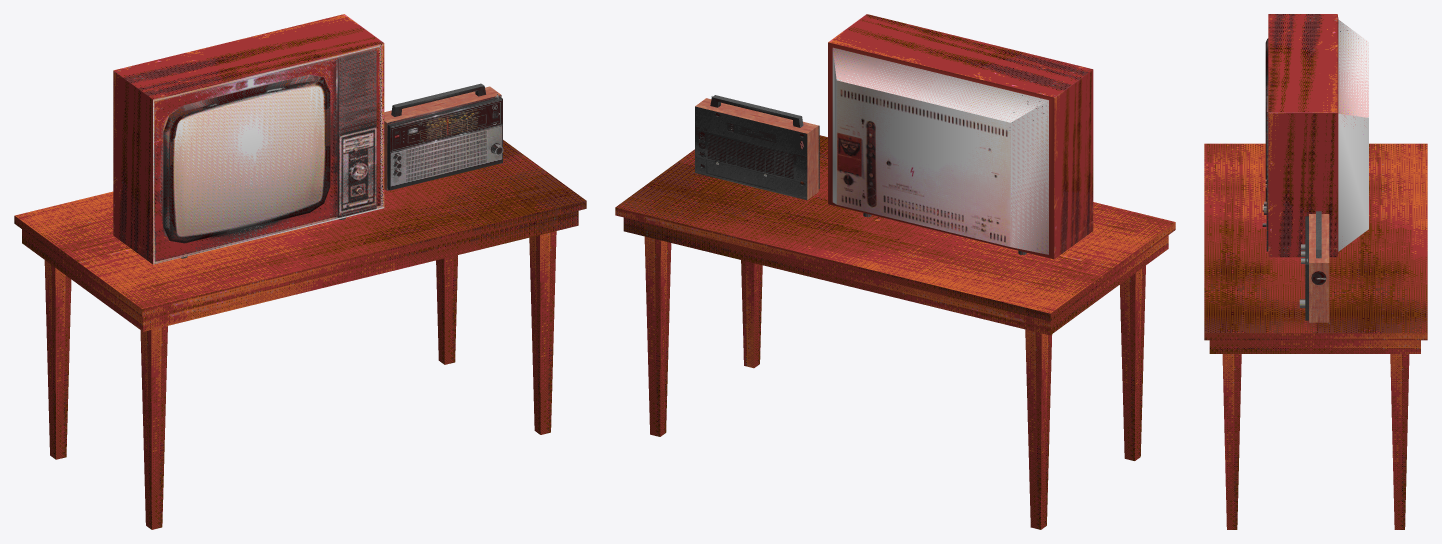
Rendered from tv&radio&table.fbx.
The picture shows the model from 3 angles, left to right: view 1: azimuth 30°, elevation 25°; view 2: azimuth 150°, elevation 25°; view 3: azimuth 270°, elevation 25°; orthographic projection. The views are drawn at different scales.
Visible parts, largest first — view 1: table, tv, radio; view 2: table, tv, radio; view 3: table, tv, radio.
Boxes of the visible parts, left/top/right/bottom form: table: left=14, top=140, right=586, bottom=529; tv: left=113, top=14, right=384, bottom=264; radio: left=384, top=83, right=503, bottom=190; table: left=615, top=135, right=1175, bottom=529; tv: left=828, top=14, right=1093, bottom=259; radio: left=695, top=95, right=819, bottom=200; table: left=1204, top=143, right=1427, bottom=529; tv: left=1262, top=14, right=1368, bottom=257; radio: left=1299, top=211, right=1329, bottom=322.
Size of the model in its own units: 177 by 155 by 88.36.
